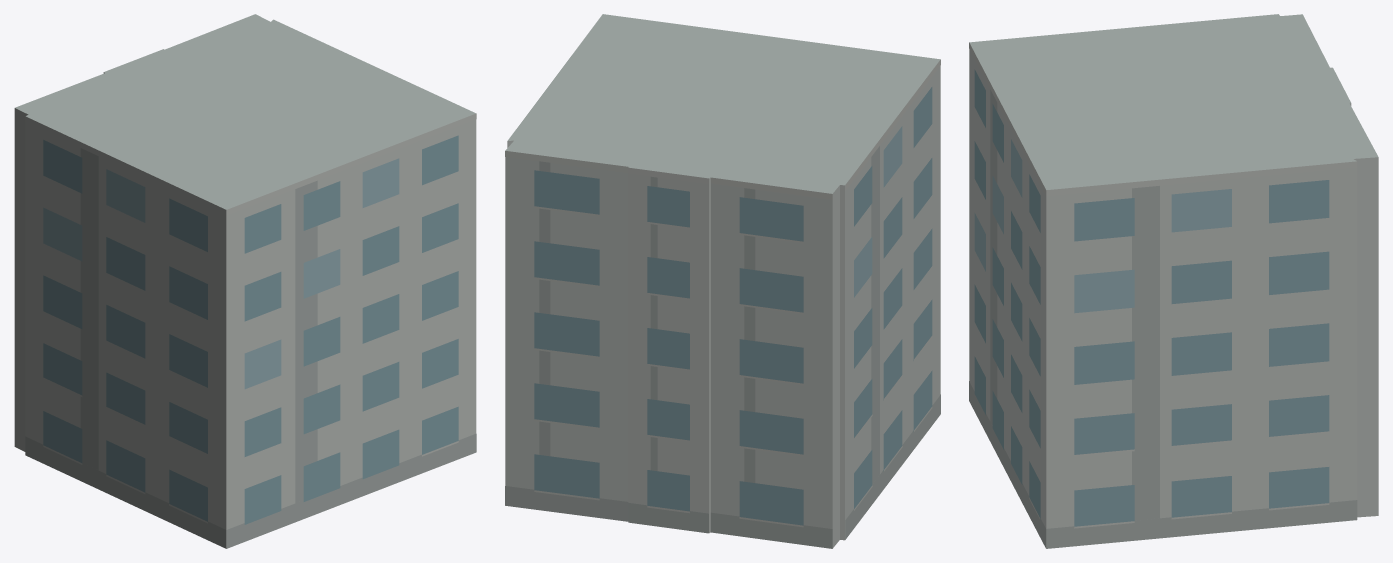
Rendered from survey-upis-32798974.glb.
3 views of the same model, side by side, from view 1: azimuth 30°, elevation 25°; view 2: azimuth 150°, elevation 25°; view 3: azimuth 270°, elevation 25° (orthographic). The views are drawn at different scales.
Visible parts, largest first — view 1: survey-upis-32798974.tmp; view 2: survey-upis-32798974.tmp; view 3: survey-upis-32798974.tmp.
Boxes of the visible parts, bbox=[...] form: survey-upis-32798974.tmp: bbox=[14, 14, 476, 548]; survey-upis-32798974.tmp: bbox=[505, 14, 940, 548]; survey-upis-32798974.tmp: bbox=[969, 14, 1378, 548].
Bounding box in the file's own units: 14.97 × 14.2 × 14.7.
